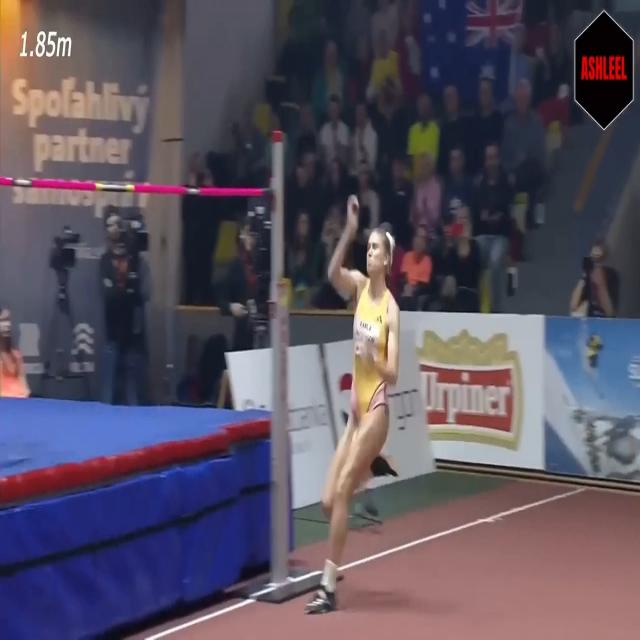jump: (303, 206, 401, 614)
